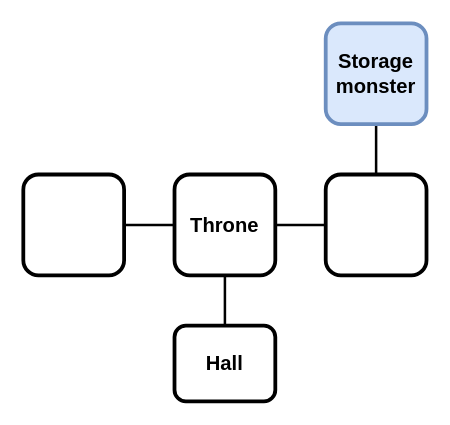
This 450x425 diagram has some shape labels left out. The shapes that lost their labels are listed below. From the top down, each one's centre as x and y in pixels, then its label:
At point (73, 224): "Arena monster".
At point (375, 224): "Kitchen".
